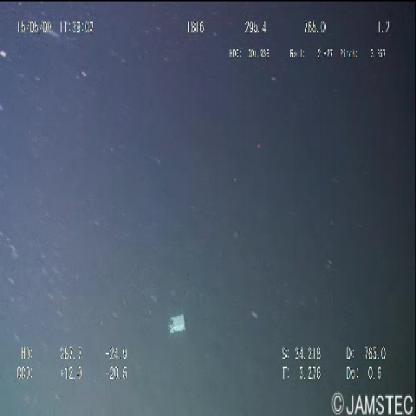Rác: (168, 314, 186, 336)
